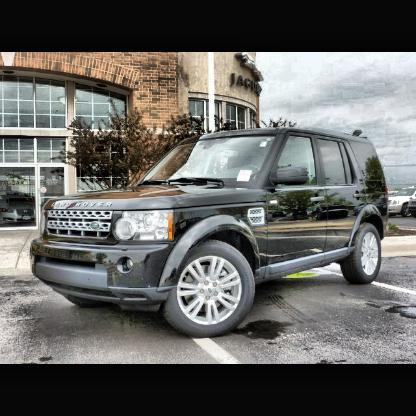Land Rover LR2 SUV 2012: (28, 127, 391, 338)
